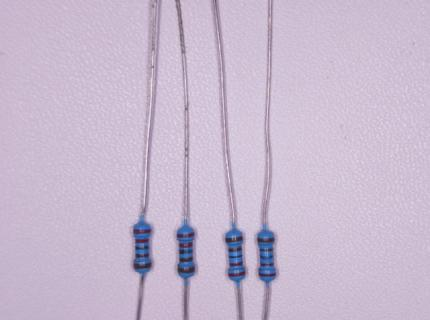Black band: (179, 249, 192, 254), (135, 246, 149, 250), (229, 255, 242, 259), (260, 255, 273, 259)
Brown band: (178, 266, 195, 274), (225, 236, 243, 243), (133, 263, 152, 269), (257, 237, 275, 243), (179, 257, 193, 262), (228, 247, 242, 252), (136, 254, 150, 258), (259, 249, 273, 252)
Red band: (258, 272, 277, 277), (133, 229, 151, 234), (228, 272, 246, 277), (177, 233, 194, 238), (179, 242, 192, 248), (229, 262, 243, 267), (135, 239, 149, 243), (260, 263, 274, 267)
